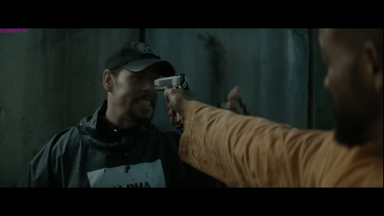firearm: (153, 71, 189, 92)
